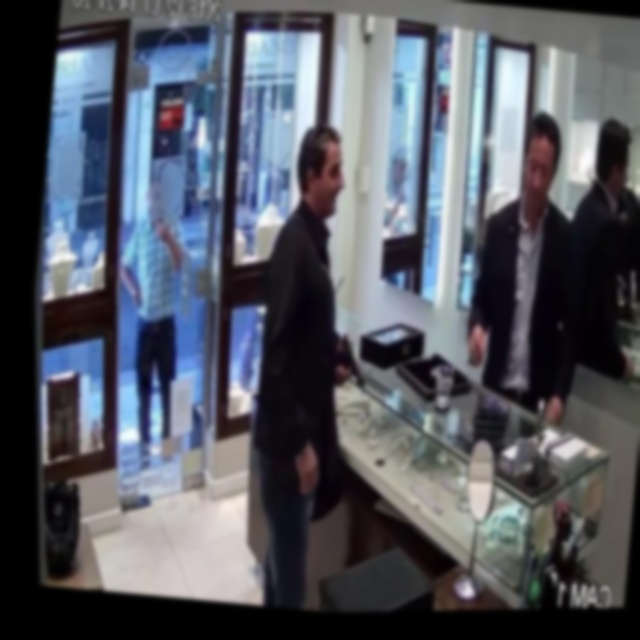gun: (322, 313, 380, 409)
